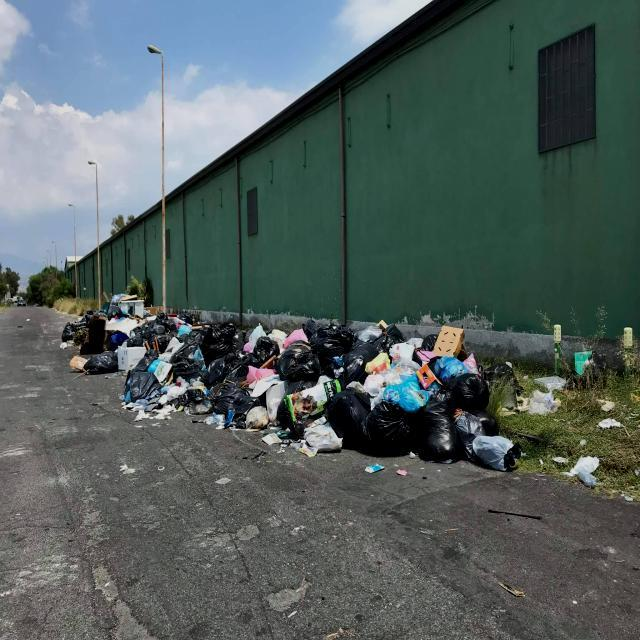high trash: (62, 295, 520, 471)
